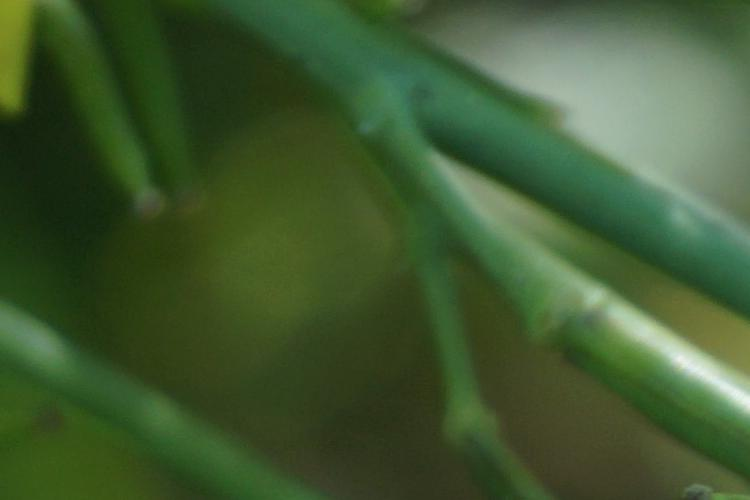pod: (40, 18, 167, 230), (110, 3, 215, 222)
